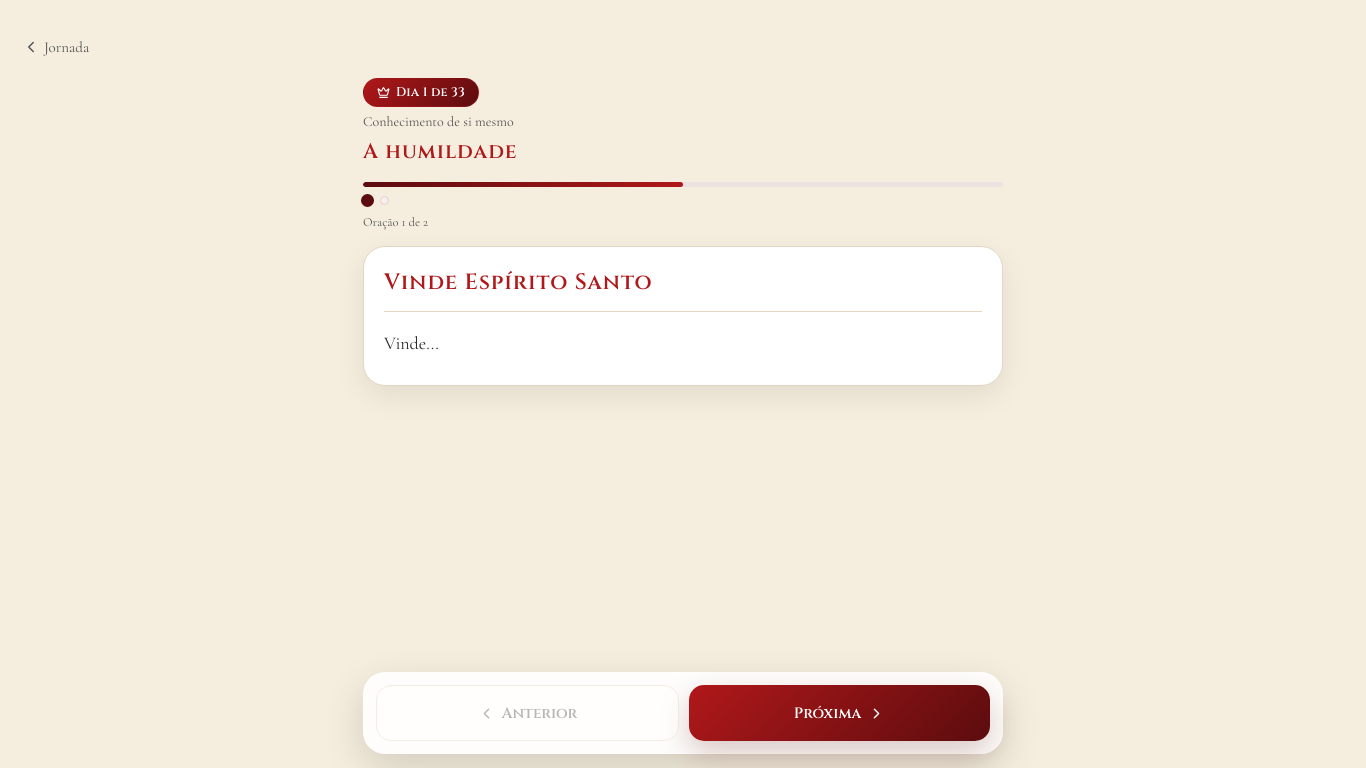
Scenario: ConsecrationDay › steps through the prayers
Expected: the heading "A humildade" is shown, [363,138,518,166]
Click the button "Próxima".
click(840, 713)  # box [689,685,990,741]
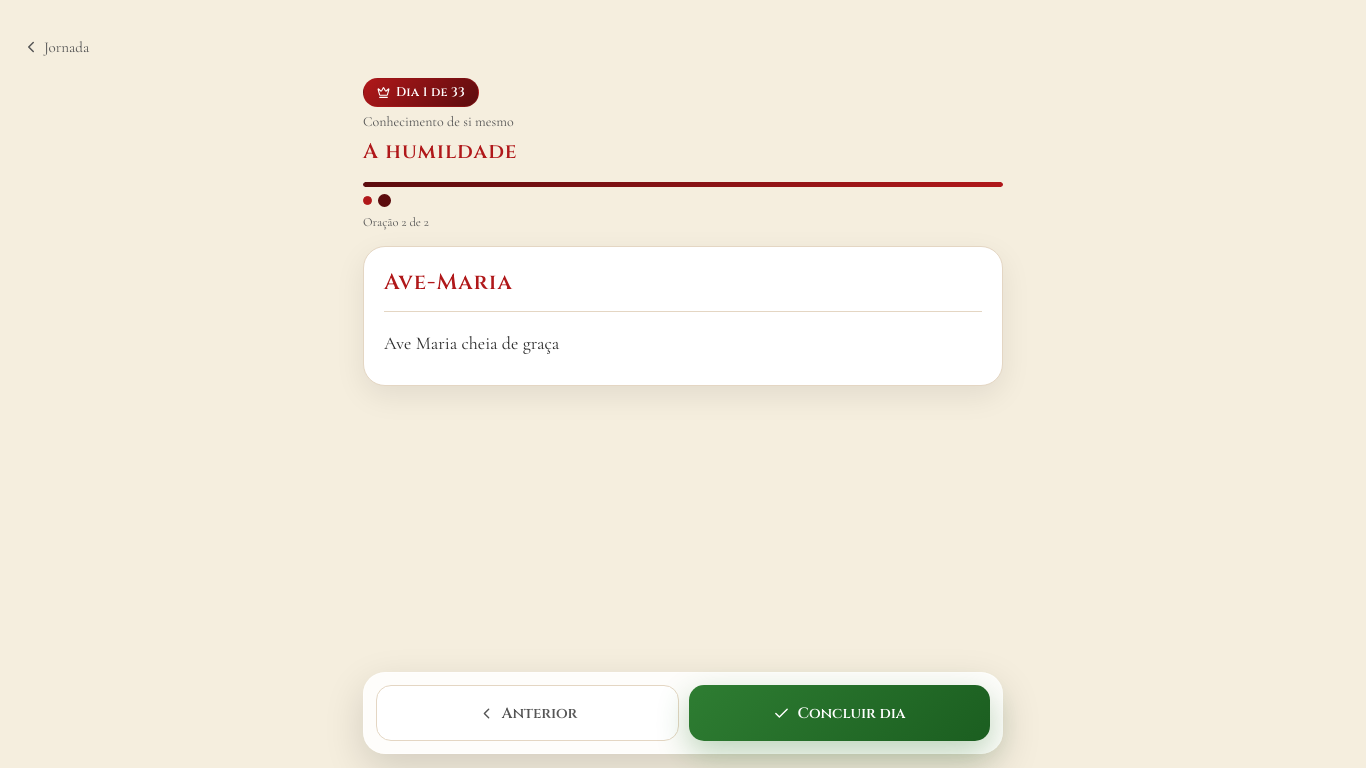
Now the text "Ave Maria cheia de graça" is shown, box [384,332,559,354]
Now the text "Oração 2 de 2" is shown, box [363,214,429,230]
